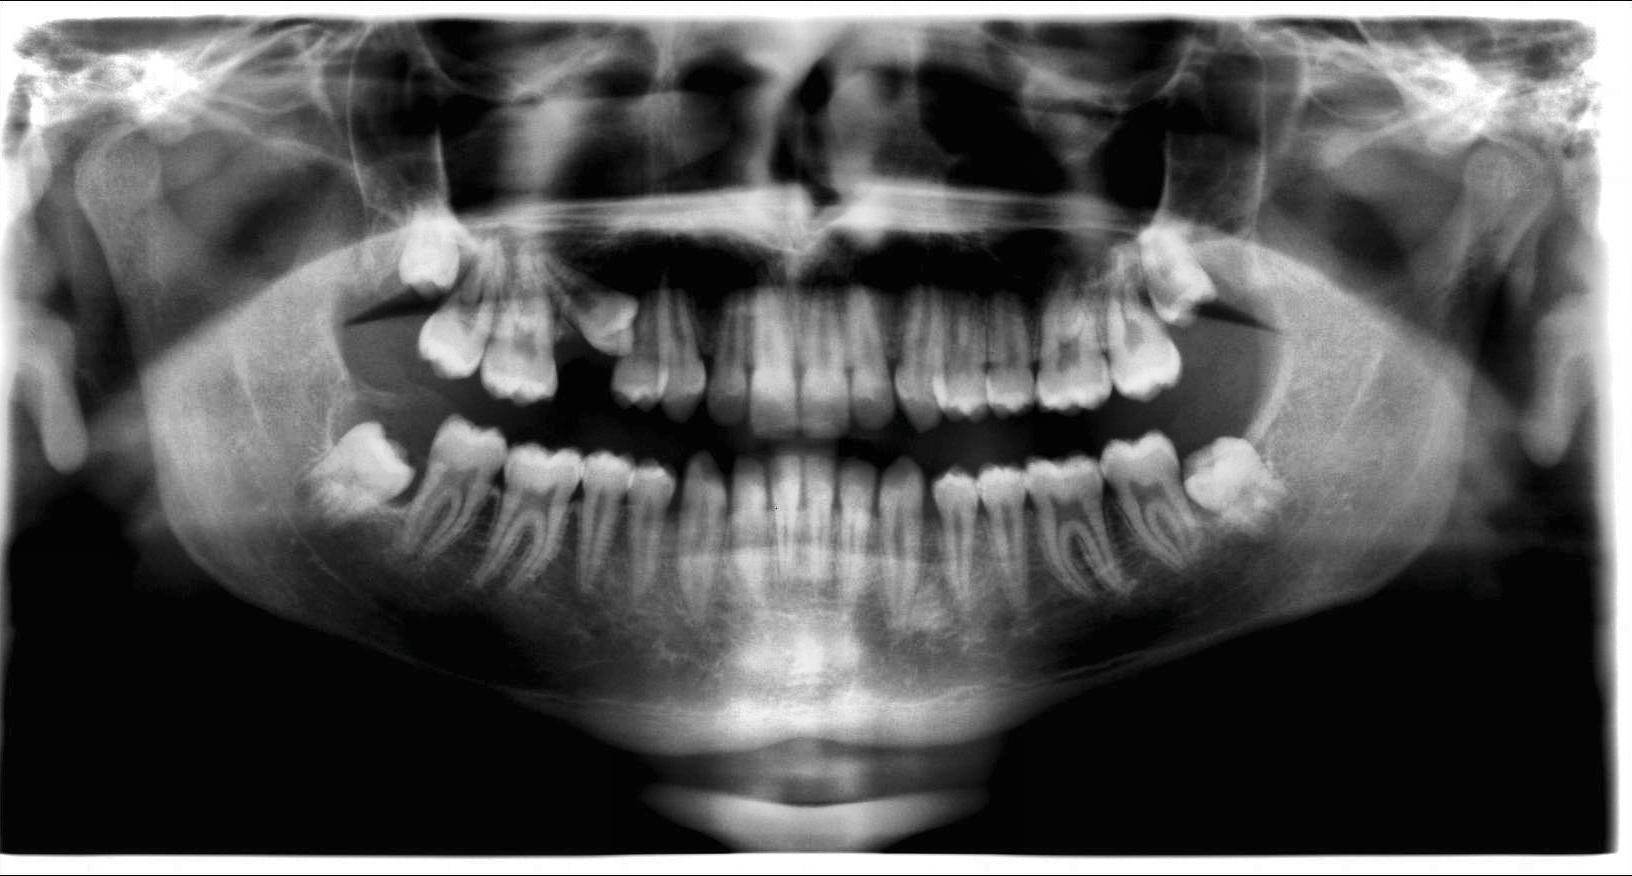dentigeroz: (323, 369, 434, 517)
